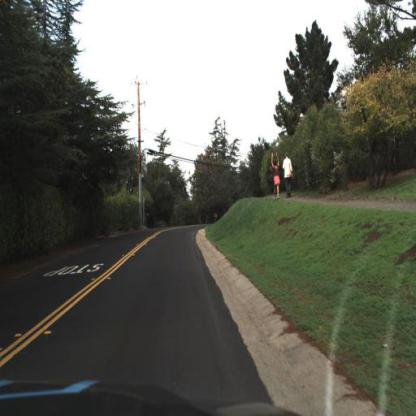pedestrian: (268, 151, 284, 205), (284, 153, 294, 198), (273, 160, 282, 198)
